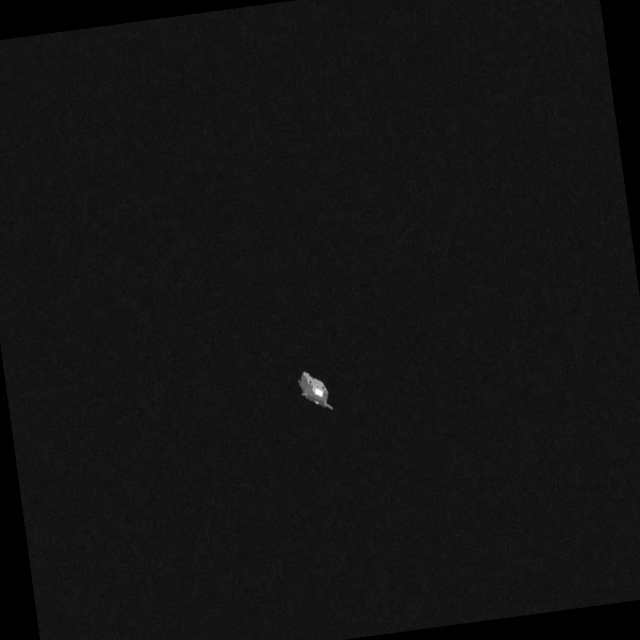satellite: (286, 362, 346, 417)
